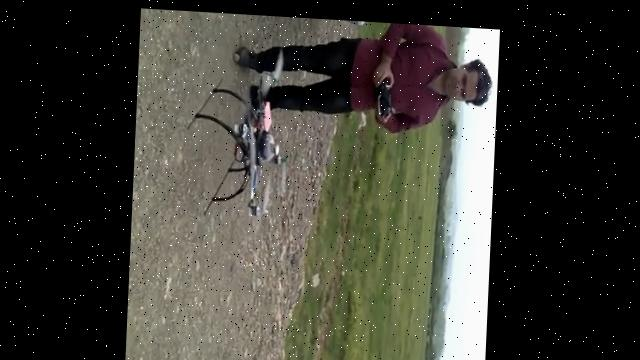drone: (184, 41, 295, 233)
